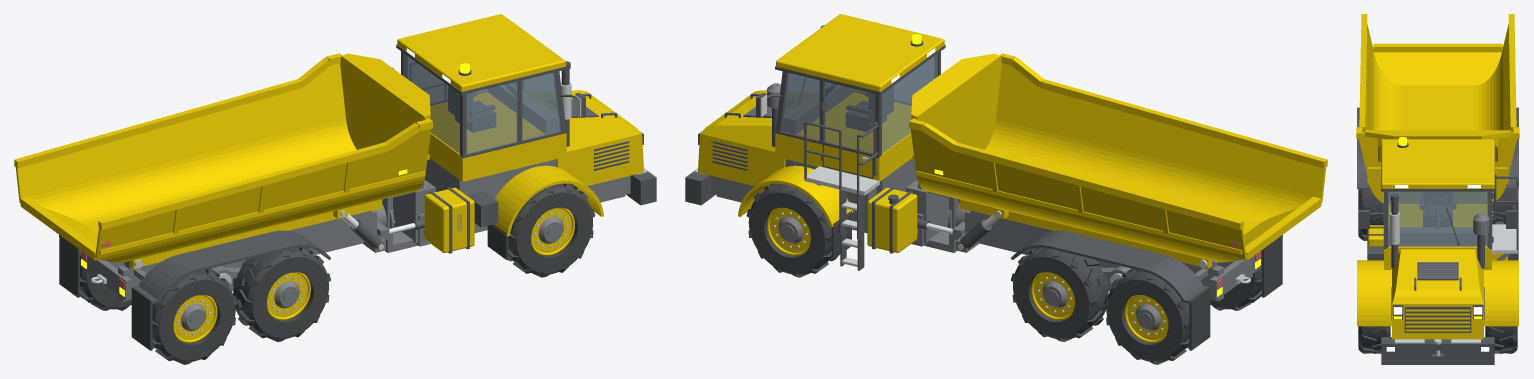
Rendered from Articulated_Dump_Truck_30t.glb.
3 views of the same model, side by side, from view 1: azimuth 30°, elevation 25°; view 2: azimuth 150°, elevation 25°; view 3: azimuth 270°, elevation 25° (orthographic). The views are drawn at different scales.
Parts seen in each view (by area): view 1: rim_front_L, tyre_front_L, hub_front_L, steering_cylinder, cab_glass, wheel_nuts_front_L; view 2: rim_front_L, tyre_front_L, steering_cylinder, hub_front_L, cab_glass, bumper_steps, wheel_nuts_front_L; view 3: rim_front_L, steering_cylinder, cab_glass, tyre_front_L, hub_front_L, bumper_steps, headlight.
Boxes of the visible parts, x1,y1,x2,y2 form: rim_front_L: [14, 14, 643, 342]; tyre_front_L: [59, 183, 595, 364]; hub_front_L: [81, 83, 630, 331]; steering_cylinder: [59, 44, 656, 304]; cab_glass: [404, 53, 561, 231]; wheel_nuts_front_L: [91, 209, 568, 335]; rim_front_L: [698, 14, 1327, 342]; tyre_front_L: [746, 183, 1282, 364]; steering_cylinder: [685, 25, 1282, 304]; hub_front_L: [711, 83, 1260, 331]; cab_glass: [780, 53, 937, 153]; bumper_steps: [694, 166, 879, 266]; wheel_nuts_front_L: [772, 209, 1250, 336]; rim_front_L: [1356, 14, 1519, 339]; steering_cylinder: [1357, 107, 1518, 364]; cab_glass: [1388, 191, 1487, 247]; tyre_front_L: [1358, 189, 1517, 353]; hub_front_L: [1388, 213, 1510, 278]; bumper_steps: [1389, 212, 1517, 343]; headlight: [1386, 185, 1489, 351].
Bounding box in the file's own units: 213 × 75.07 × 60.51.
